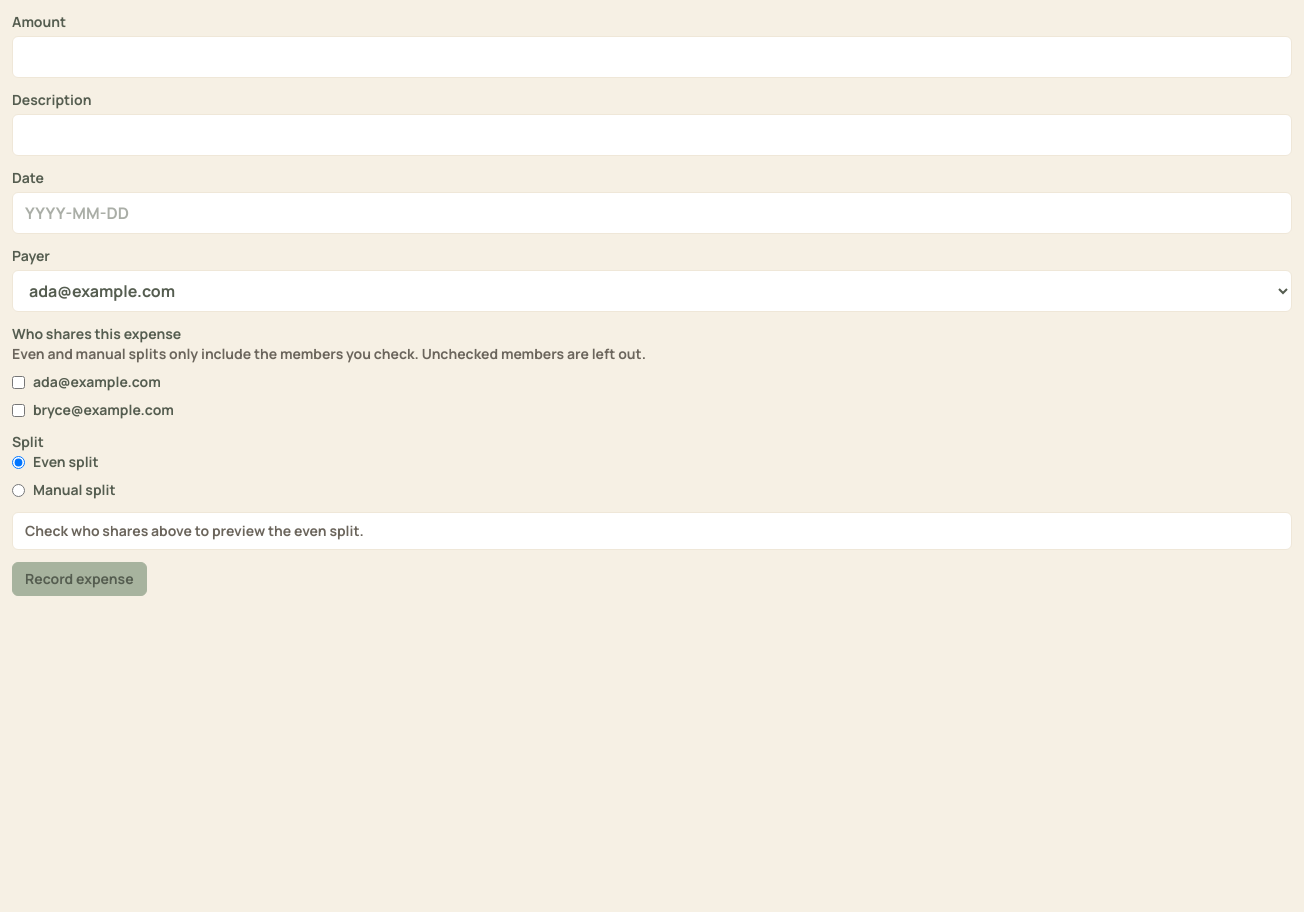
Test: ExpenseForm › blocks submit when nobody is selected to share
The width and height of the screenshot is (1304, 912).
In the field labelled "Amount": (652, 57) 12,36 -> 1292,78, type "10.00"
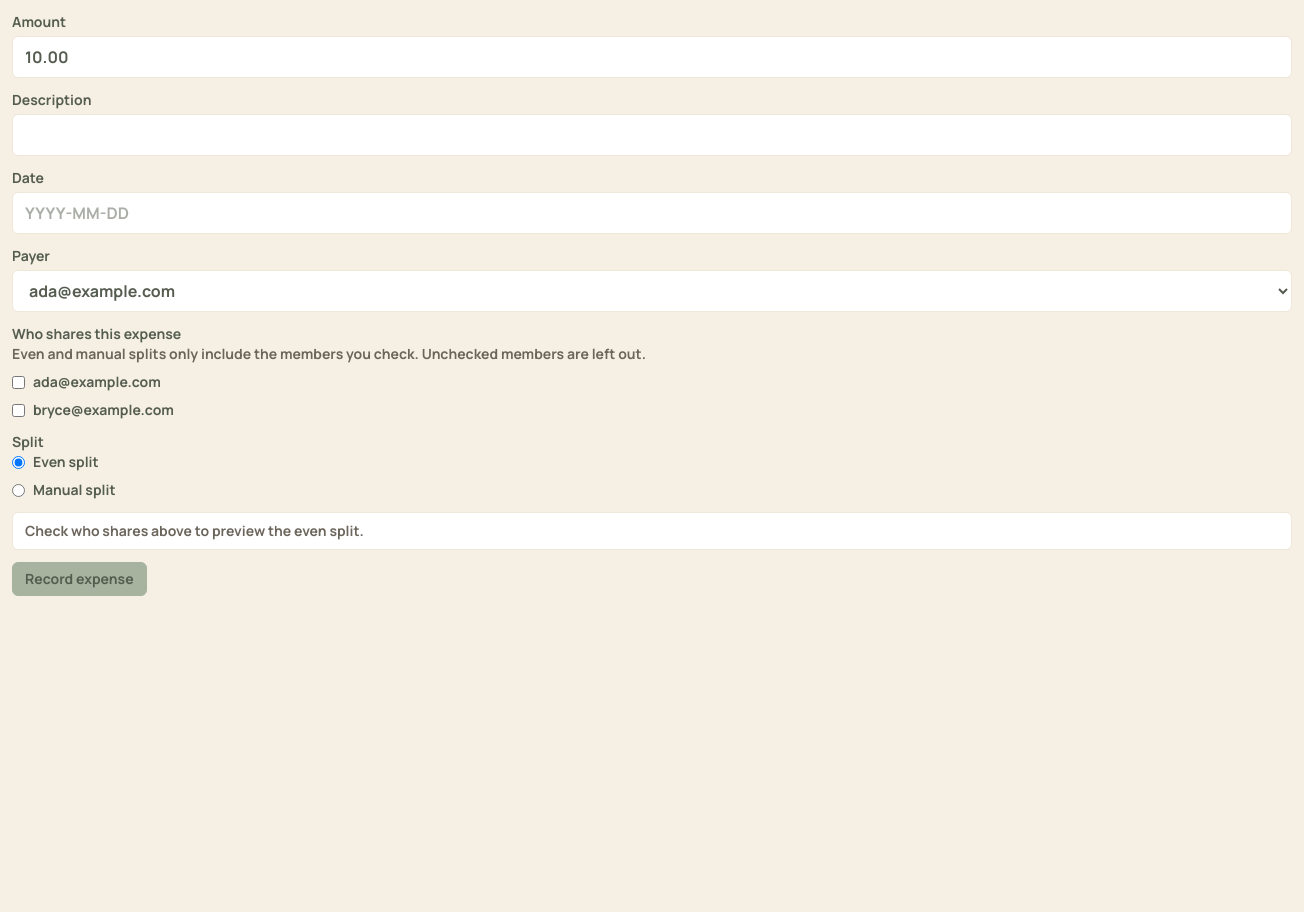
In the field labelled "Description": (652, 135) 12,114 -> 1292,156, type "Snacks"
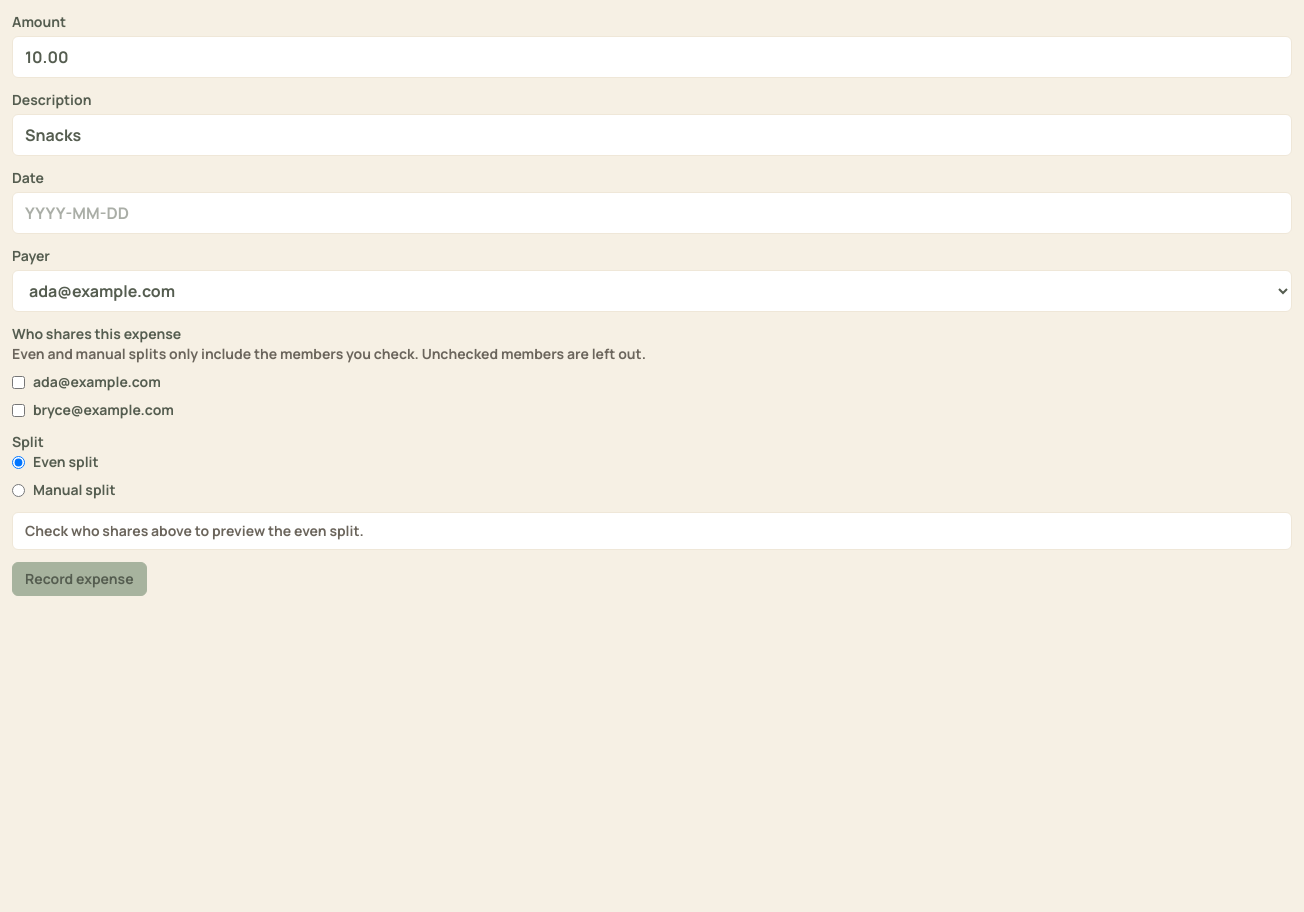
In the field labelled "Date": (652, 213) 12,192 -> 1292,234, type "2026-11-02"
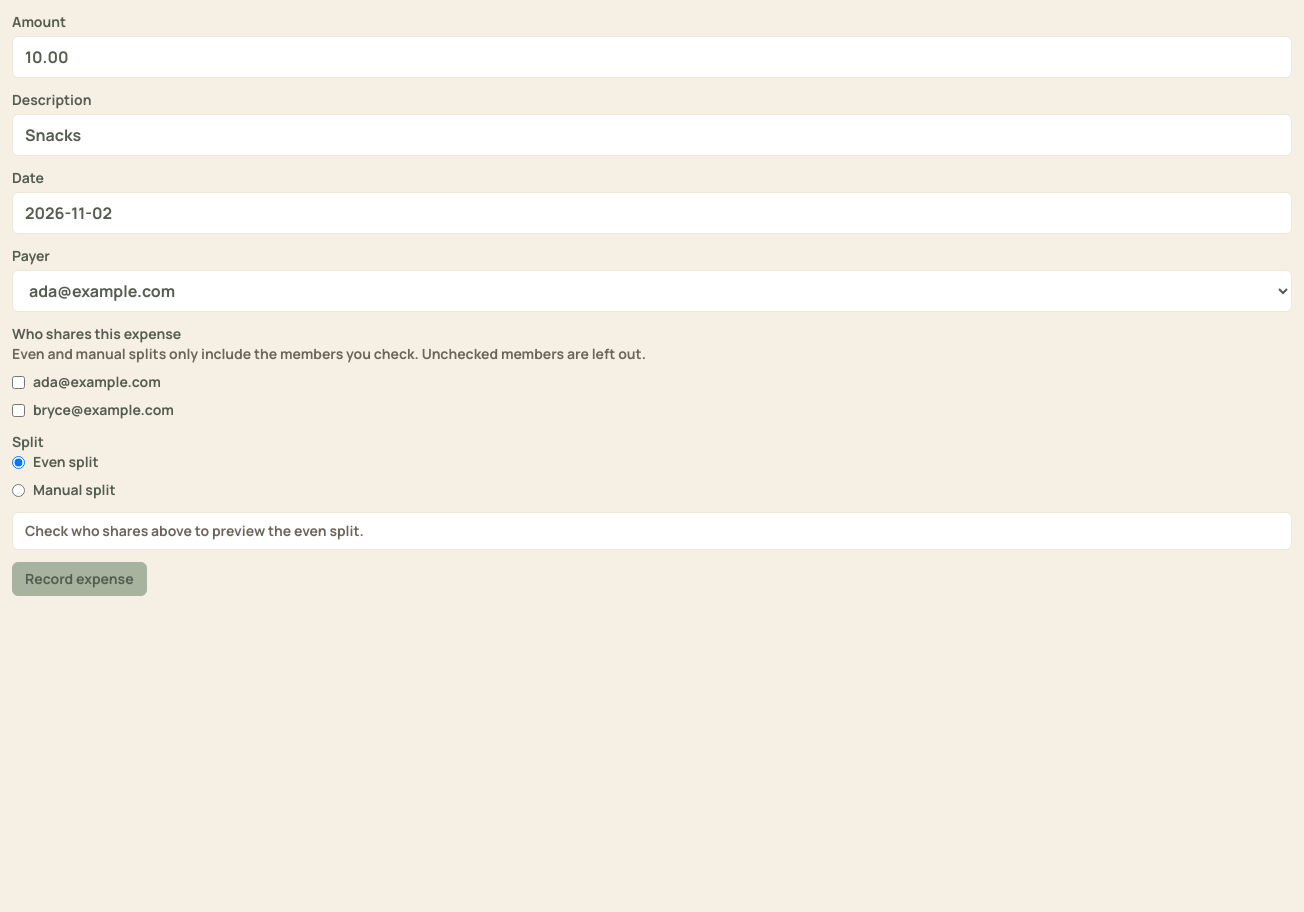
Click the button "Record expense": (79, 579) 12,562 -> 147,596
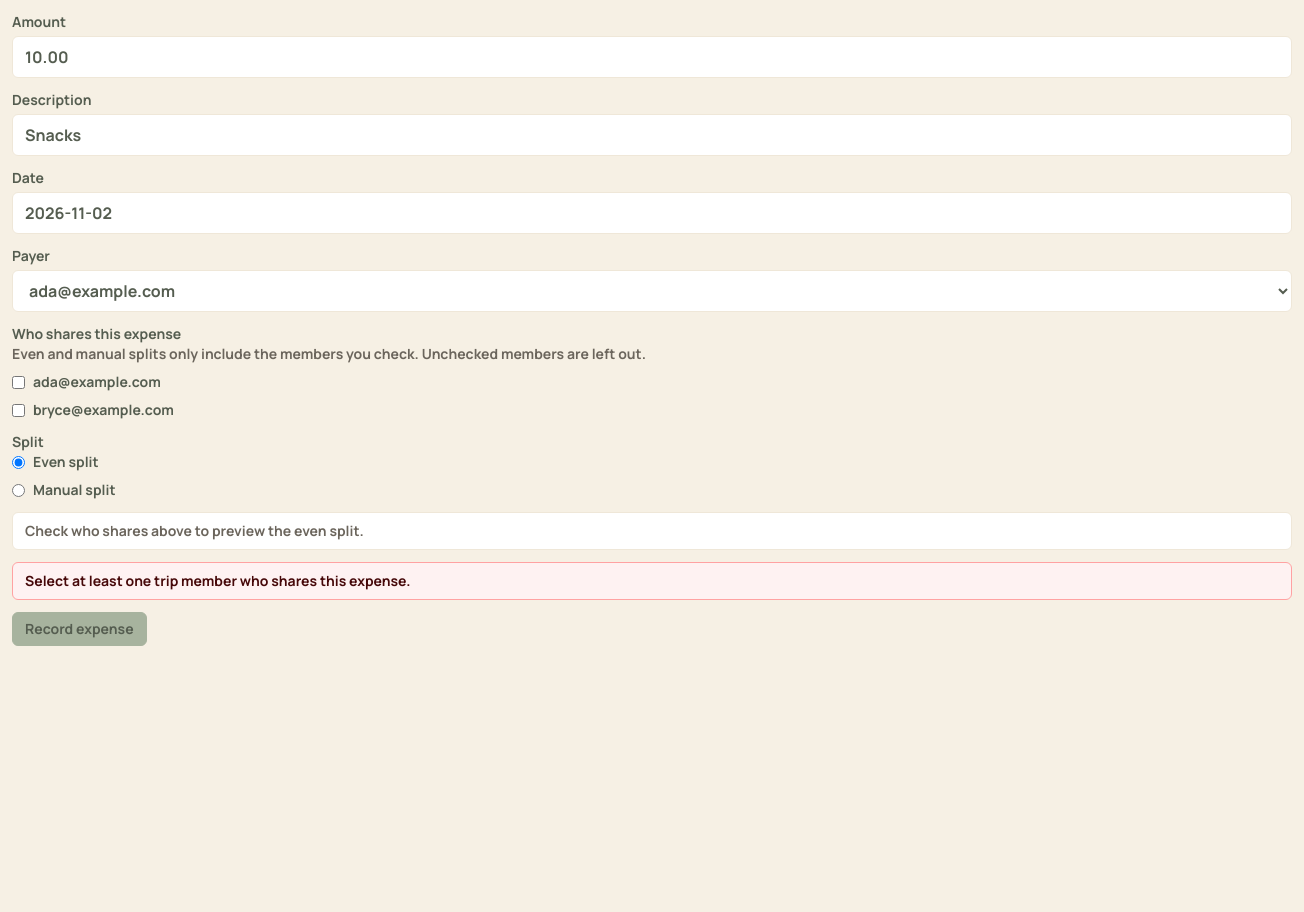
Expected: the message reads "Select at least one trip member who shares this expense.", 25,571 -> 410,590
